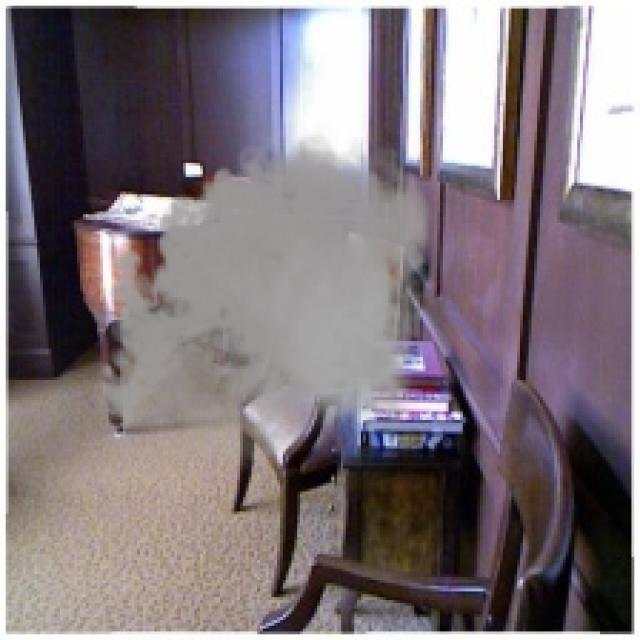smoke: (88, 120, 443, 480)
